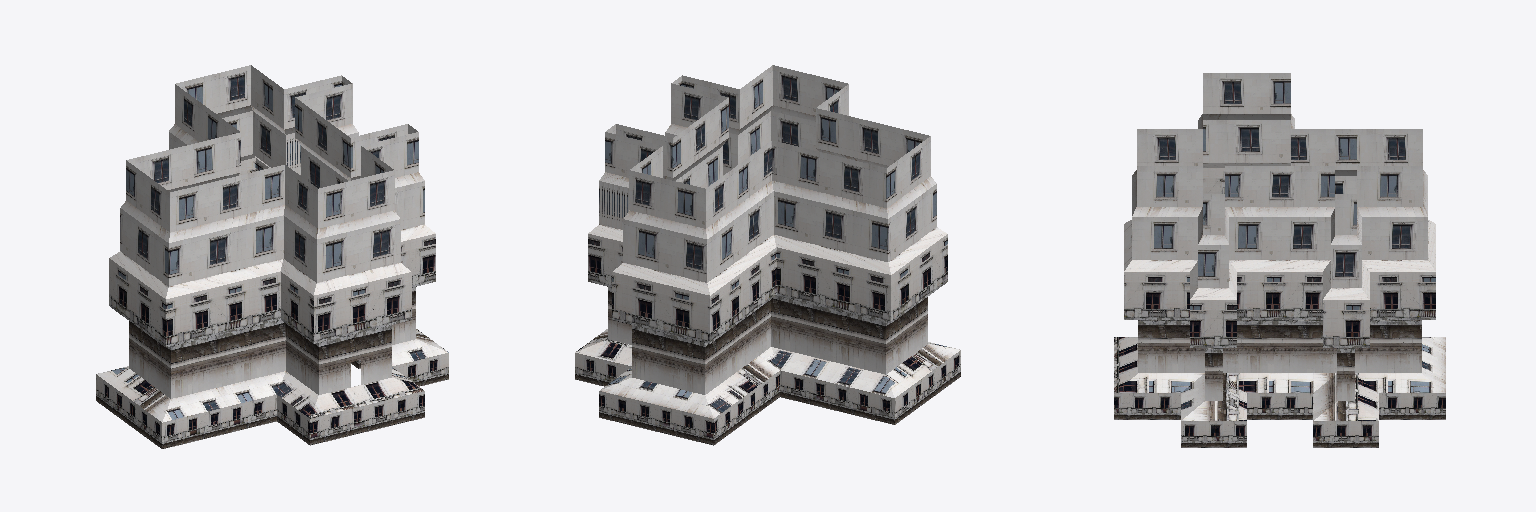
The picture shows the model from 3 angles: view 1: azimuth 30°, elevation 25°; view 2: azimuth 150°, elevation 25°; view 3: azimuth 270°, elevation 25°; orthographic projection.
Parts seen in each view (by area): view 1: block5; view 2: block5; view 3: block5.
Part boxes in pixels (bbox=[...]): block5: bbox=[96, 65, 448, 448]; block5: bbox=[575, 65, 960, 445]; block5: bbox=[1114, 73, 1445, 447].
Bounding box in the file's own units: 23.77 × 19.34 × 23.77.
Materials: 1 (1 with a texture image).